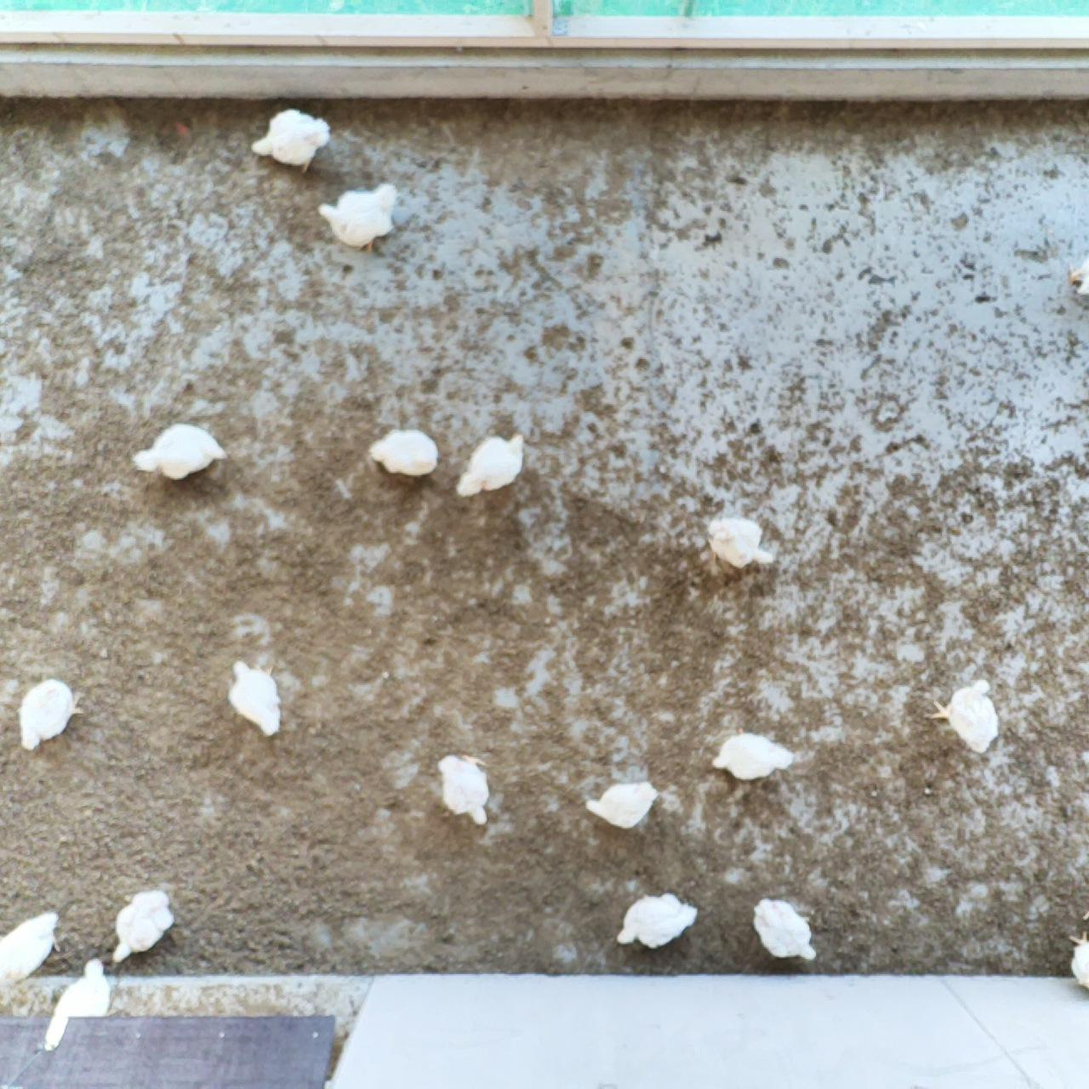chicken: (313, 178, 405, 259), (130, 416, 234, 484), (14, 667, 88, 757), (926, 674, 1004, 757), (107, 885, 181, 969), (248, 106, 334, 178), (453, 430, 529, 507), (222, 655, 287, 745), (698, 512, 778, 584), (613, 889, 702, 952), (49, 952, 123, 1027), (0, 909, 66, 993), (746, 891, 820, 965), (708, 725, 796, 784), (434, 748, 493, 828), (580, 775, 660, 832), (366, 424, 443, 481), (1063, 924, 1089, 994), (1063, 252, 1089, 307)
